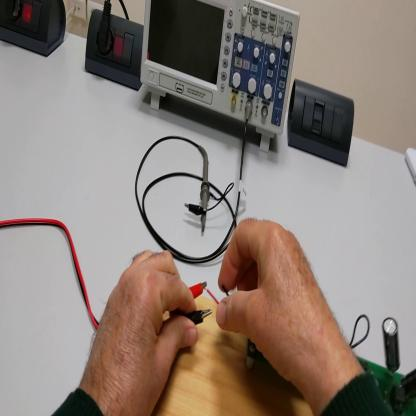hand: (218, 219, 339, 395), (87, 249, 200, 416)
high voltage board: (205, 282, 416, 416)
oscilloscope: (146, 1, 302, 157)
oscilloscope probe tip: (200, 147, 209, 232)
socket: (81, 10, 148, 94), (2, 1, 69, 60)
working area: (150, 286, 314, 415)
